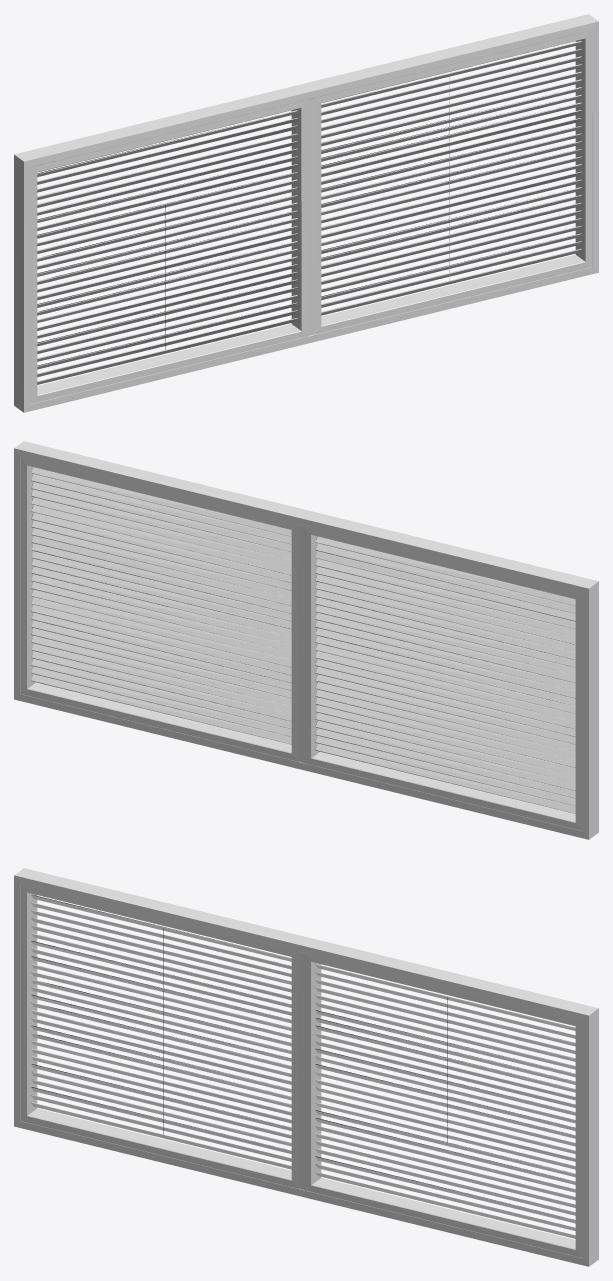
Rendered from WindowFactory73448.spawn_asset4.glb.
3 renders of one model, top to bottom at view 1: azimuth 30°, elevation 25°; view 2: azimuth 150°, elevation 25°; view 3: azimuth 330°, elevation 25°, orthographic.
Parts seen in each view (by area): view 1: WindowFactory(73448).spawn_asset(4).001; view 2: WindowFactory(73448).spawn_asset(4).001; view 3: WindowFactory(73448).spawn_asset(4).001.
Boxes of the visible parts, <box> form: WindowFactory(73448).spawn_asset(4).001: <box>14,14,598,412</box>; WindowFactory(73448).spawn_asset(4).001: <box>14,441,598,839</box>; WindowFactory(73448).spawn_asset(4).001: <box>14,868,598,1266</box>.
Bounding box in the file's own units: 3.39 × 1.41 × 0.1031.
Materials: 1 (1 with a texture image).
